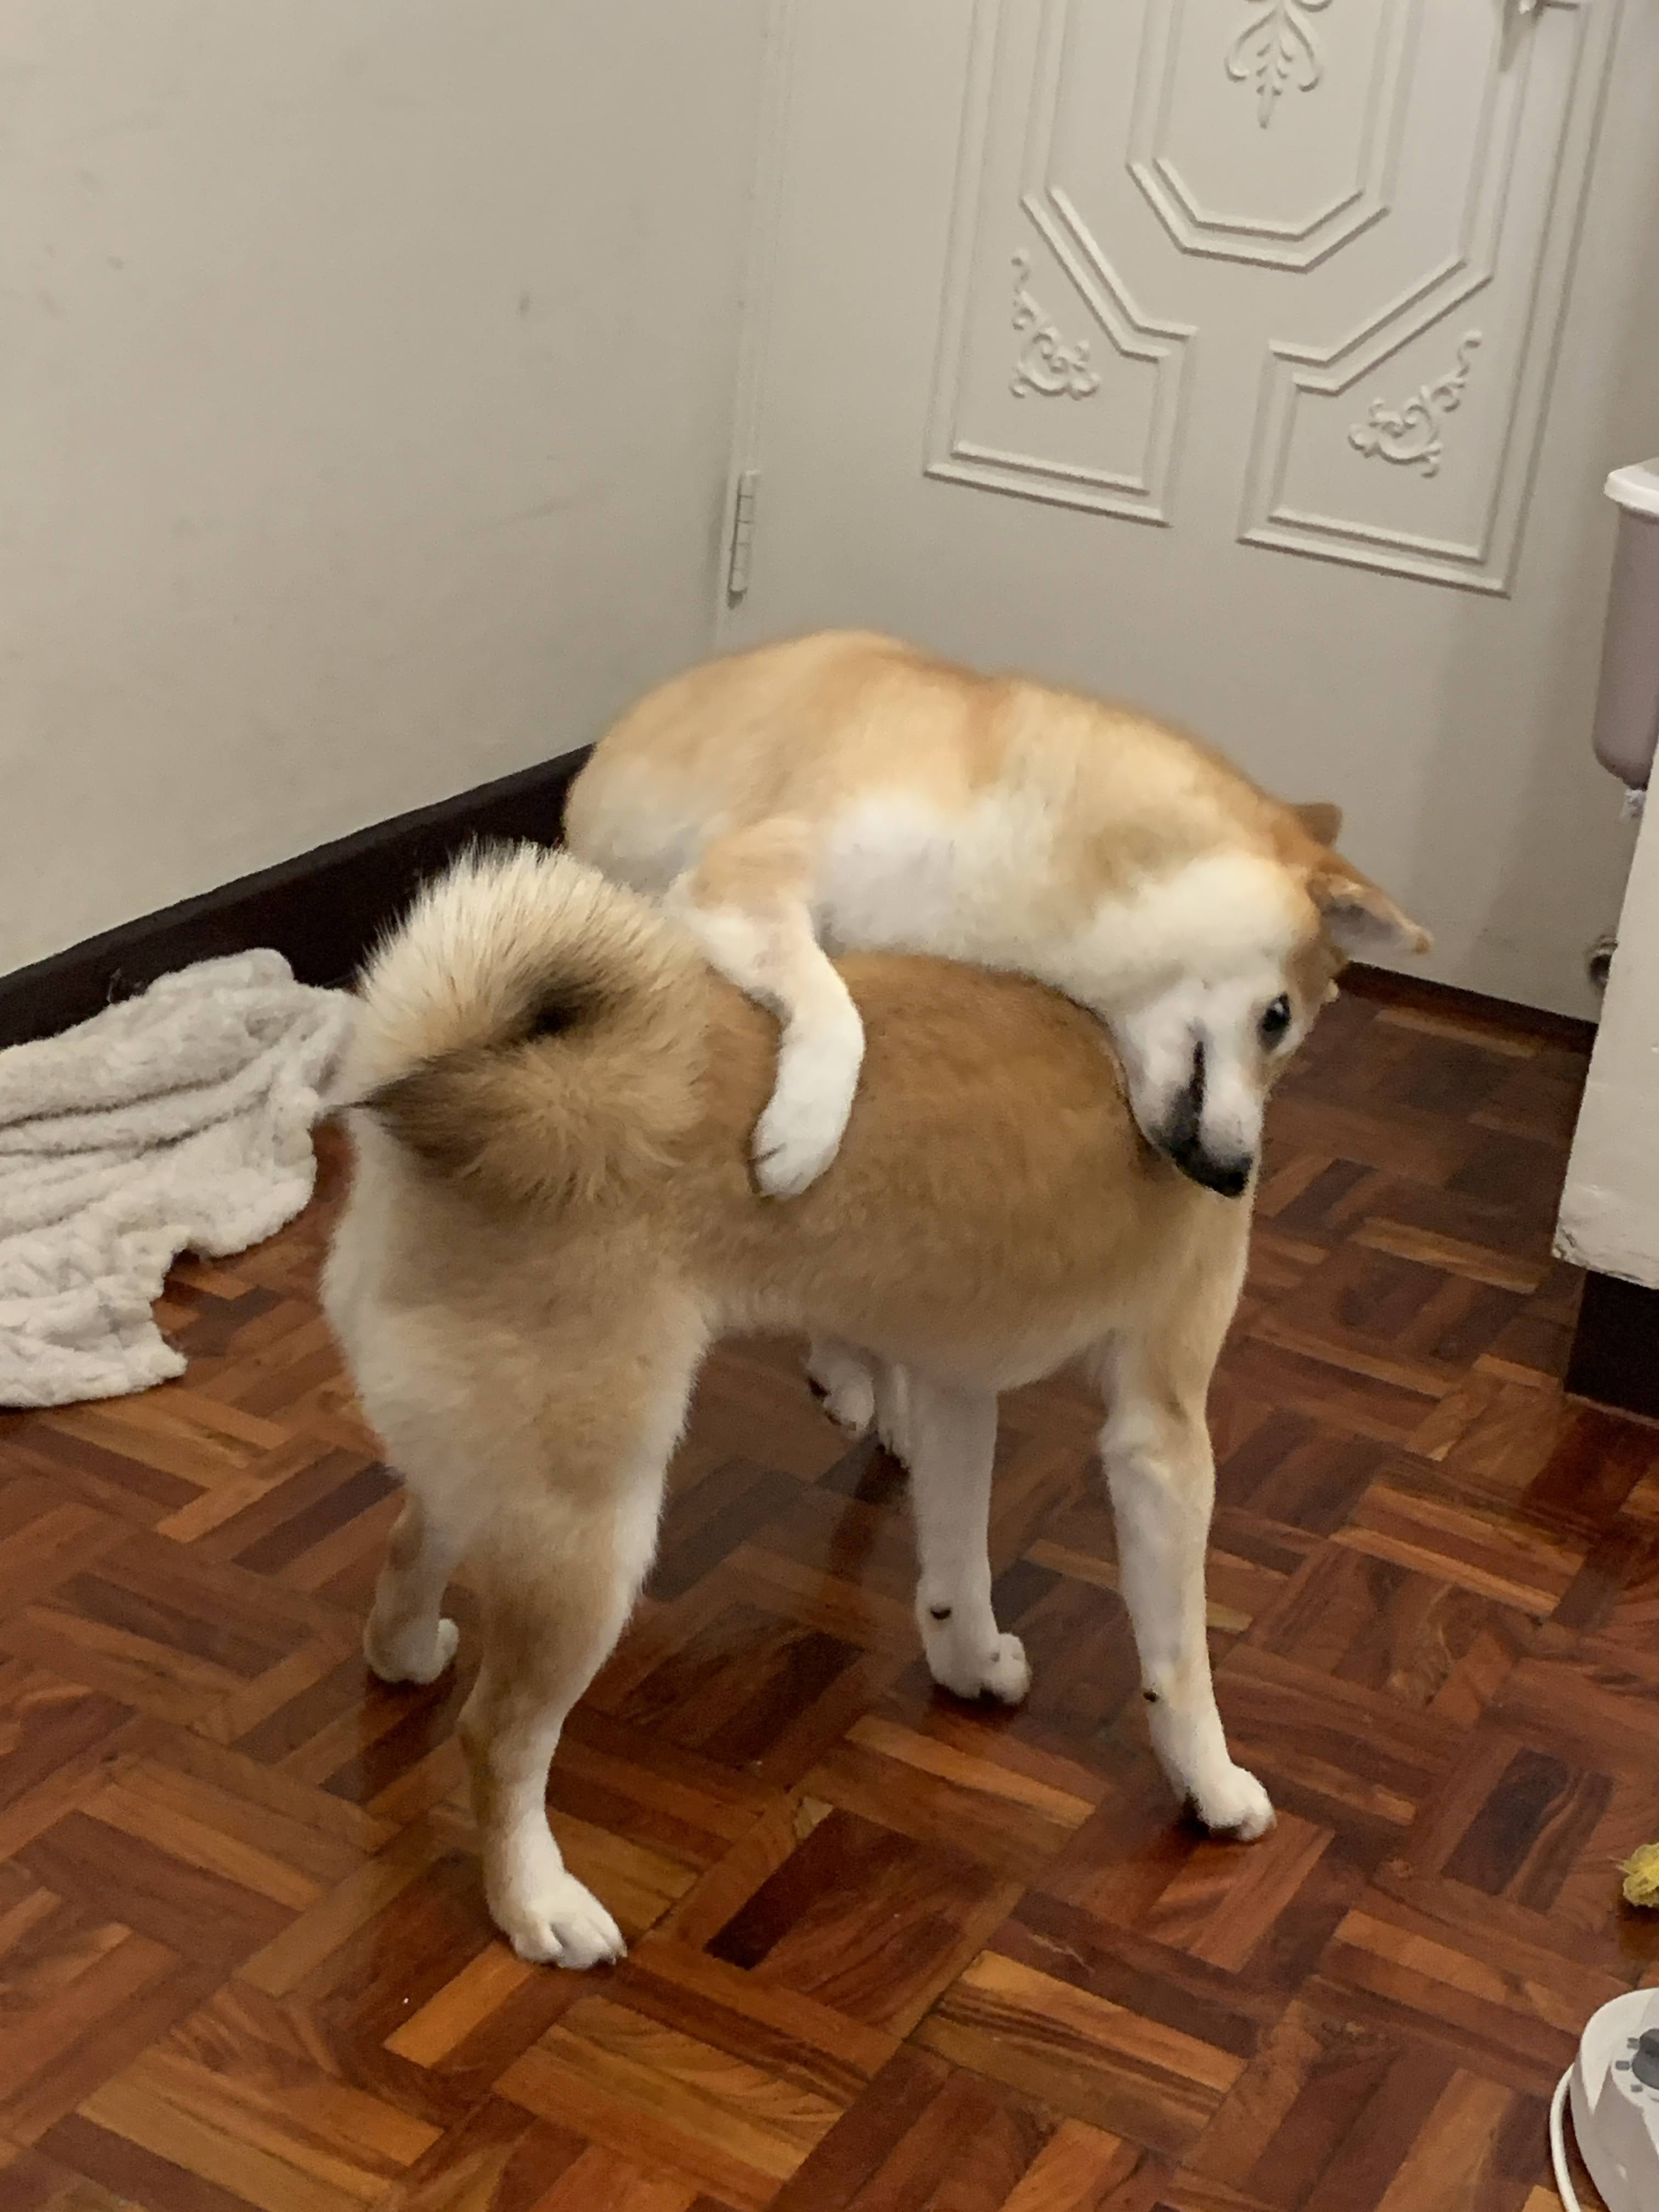Quarrel: (317, 577, 1403, 2048)
